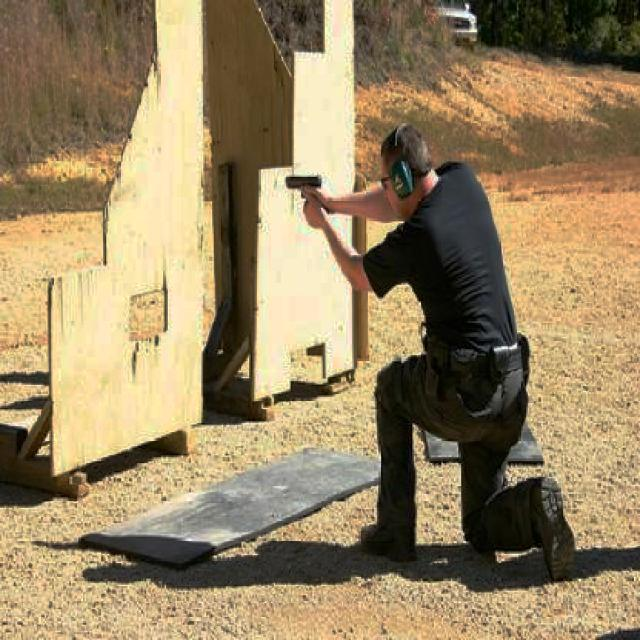Gun: (282, 162, 335, 209)
